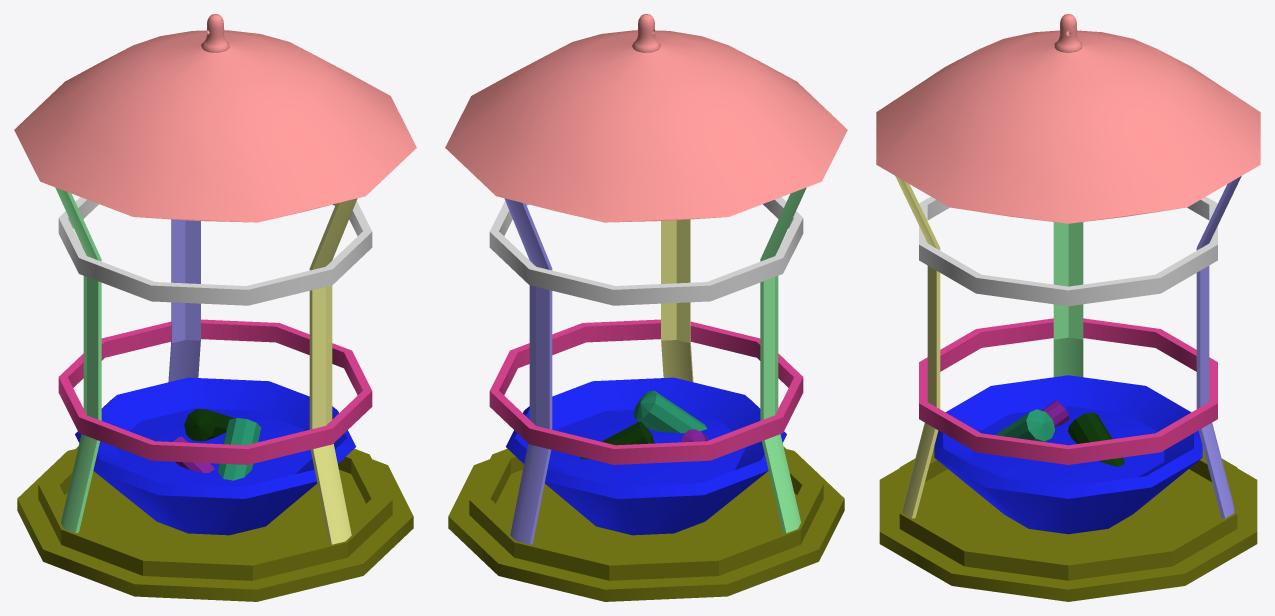
Rendered from Charcoal hanging lamp.FBX.
3 views of the same model, side by side, from view 1: azimuth 30°, elevation 25°; view 2: azimuth 150°, elevation 25°; view 3: azimuth 270°, elevation 25° (orthographic).
Visible parts, largest first — view 1: Top, Bottom, Bowl, Ring01, Ring02, Rod02, Rod01, Rod03, Charcoal01, Charcoal02; view 2: Top, Bottom, Bowl, Ring01, Ring02, Rod03, Rod01, Rod02, Charcoal01, Charcoal02; view 3: Top, Bottom, Bowl, Ring01, Ring02, Rod01, Rod02, Rod03, Charcoal01, Charcoal02.
Boxes of the visible parts, x1=… form: Top: x1=14, y1=14, x2=416, y2=222; Bottom: x1=17, y1=446, x2=413, y2=601; Bowl: x1=75, y1=377, x2=355, y2=535; Ring01: x1=58, y1=319, x2=372, y2=464; Ring02: x1=58, y1=197, x2=372, y2=305; Rod02: x1=309, y1=198, x2=357, y2=544; Rod01: x1=55, y1=187, x2=101, y2=533; Rod03: x1=168, y1=219, x2=200, y2=382; Charcoal01: x1=218, y1=418, x2=261, y2=480; Charcoal02: x1=184, y1=409, x2=234, y2=441; Top: x1=445, y1=14, x2=847, y2=222; Bottom: x1=448, y1=446, x2=844, y2=601; Bowl: x1=506, y1=377, x2=786, y2=535; Ring01: x1=489, y1=319, x2=803, y2=464; Ring02: x1=489, y1=197, x2=803, y2=305; Rod03: x1=504, y1=198, x2=552, y2=544; Rod01: x1=760, y1=187, x2=806, y2=533; Rod02: x1=661, y1=219, x2=693, y2=382; Charcoal01: x1=633, y1=390, x2=707, y2=433; Charcoal02: x1=580, y1=421, x2=654, y2=459; Top: x1=876, y1=14, x2=1260, y2=223; Bottom: x1=879, y1=447, x2=1257, y2=601; Bowl: x1=934, y1=375, x2=1202, y2=534; Ring01: x1=919, y1=318, x2=1217, y2=464; Ring02: x1=919, y1=197, x2=1217, y2=306; Rod01: x1=1053, y1=222, x2=1083, y2=377; Rod02: x1=895, y1=176, x2=940, y2=518; Rod03: x1=1196, y1=176, x2=1241, y2=518; Charcoal01: x1=995, y1=409, x2=1054, y2=441; Charcoal02: x1=1068, y1=412, x2=1124, y2=466.
Bounding box in the file's own units: 449 × 618 × 427.
